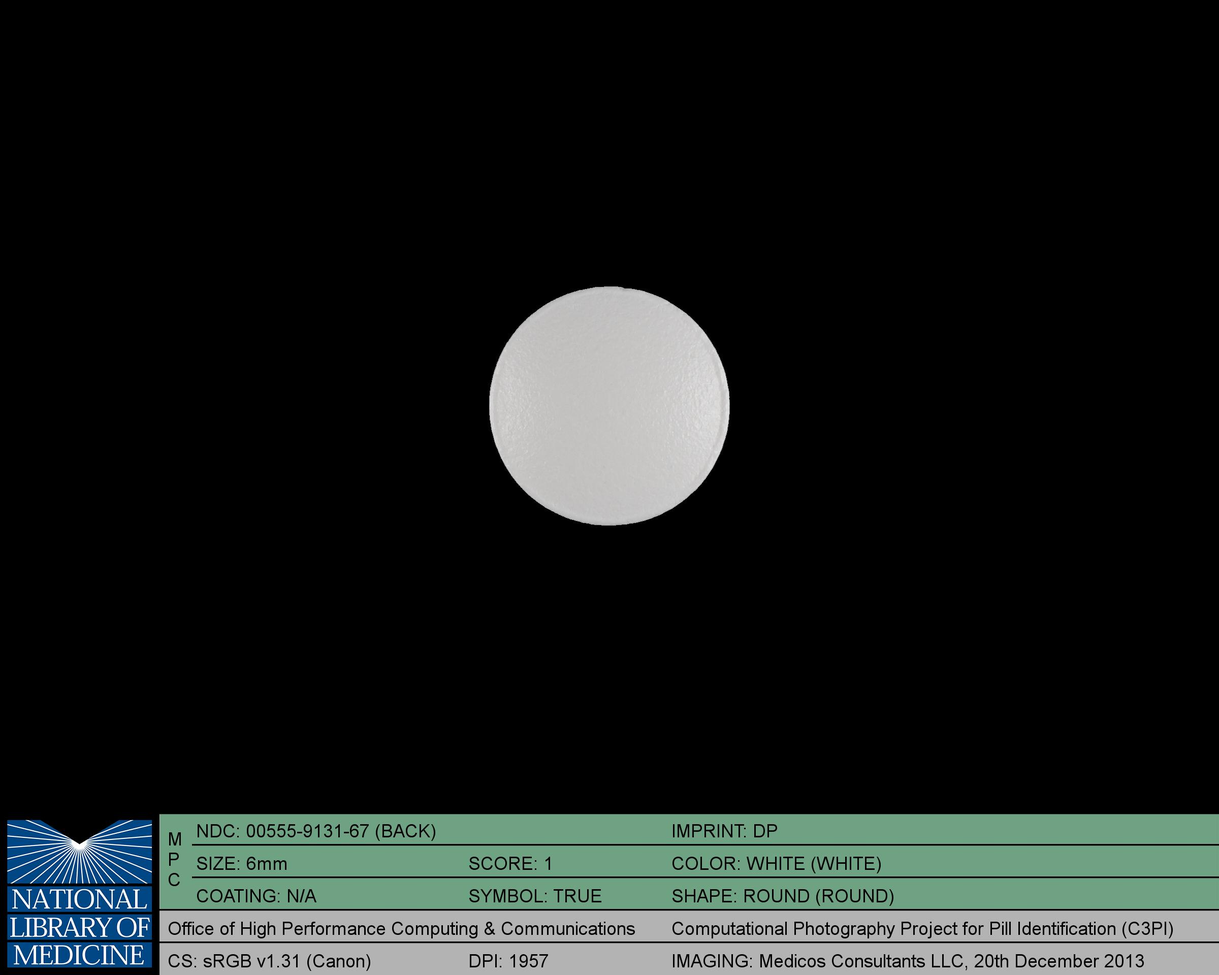Pill: (474, 276, 743, 535)
